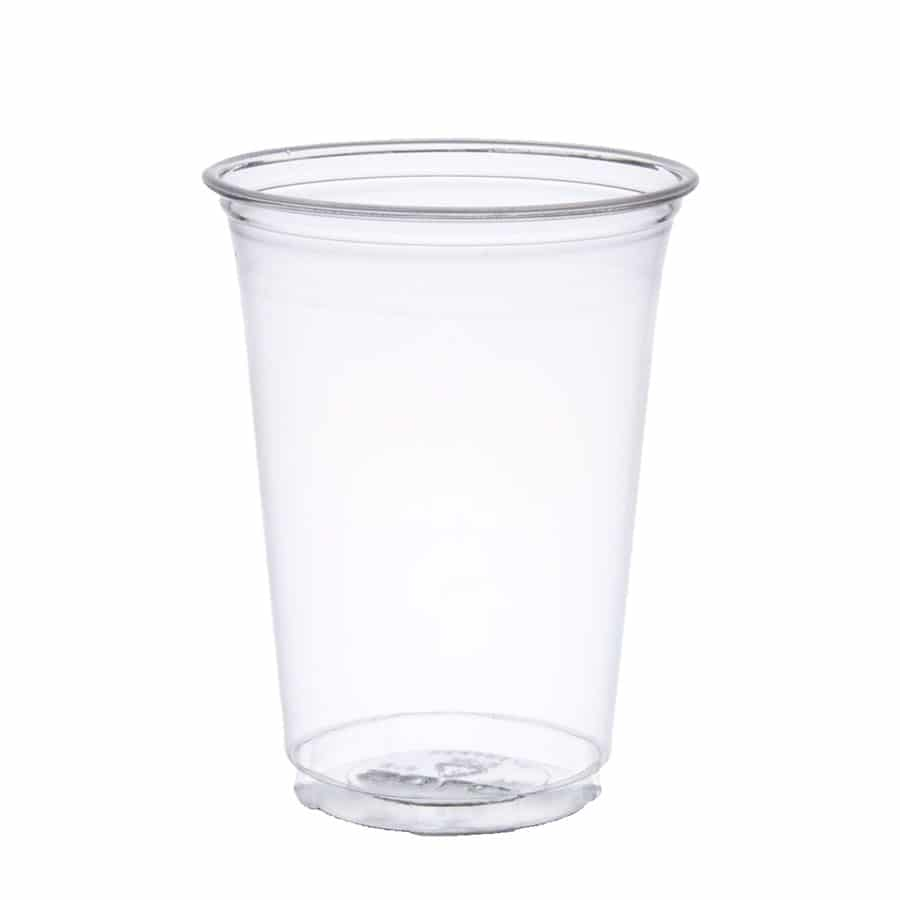plastic_glass: (164, 57, 763, 892)
